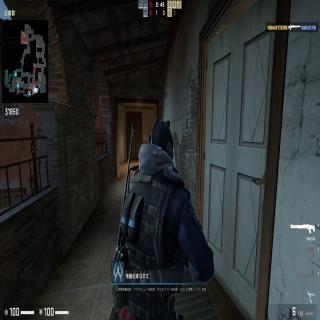CT-Head: (148, 116, 175, 160)
